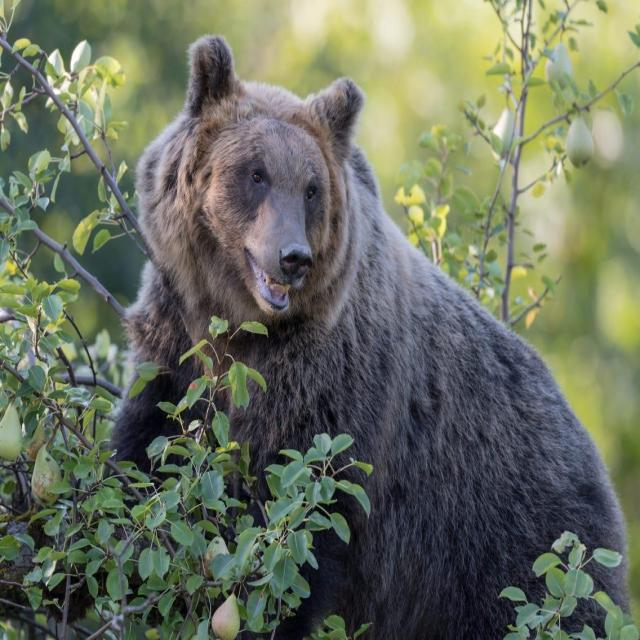Bear: (112, 35, 633, 640)
